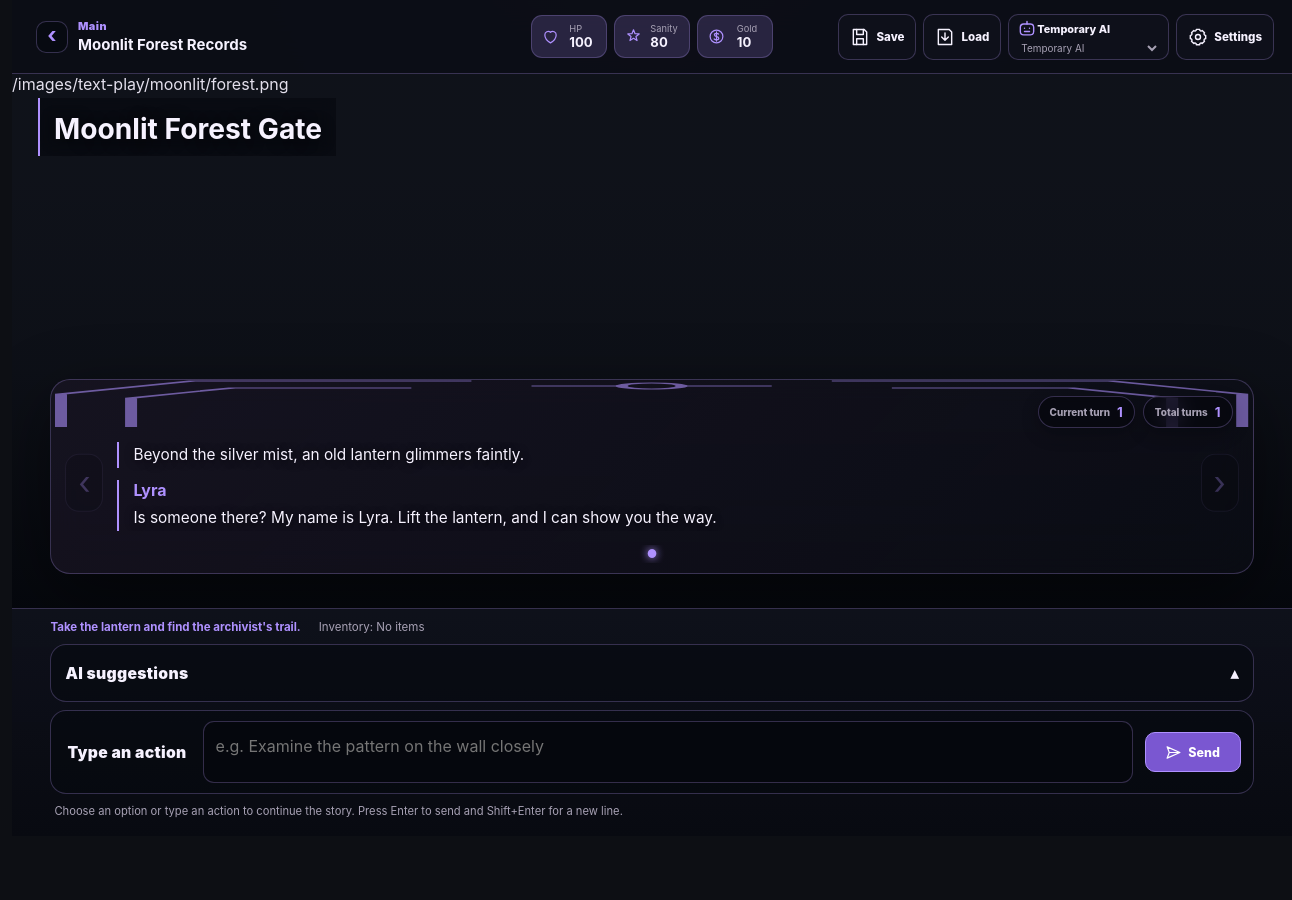
it: Text-Play 영어 화면 › 엔딩 화면도 영어로 보여 준다
The image size is (1292, 900).
Click the button "AI suggestions ▴".
click(127, 673)  # box [63,653,1241,693]
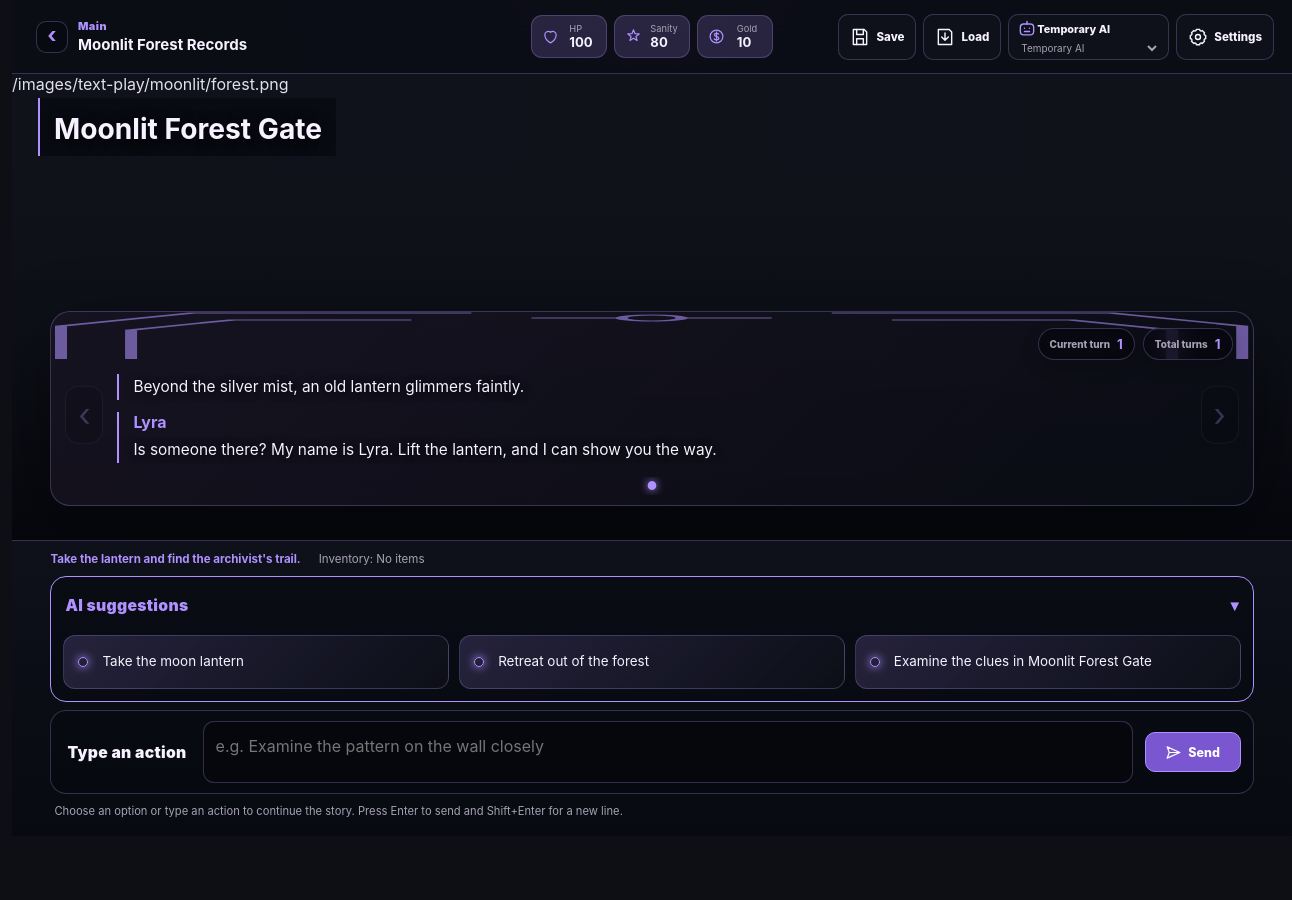
Click the button "Retreat out of the forest".
click(652, 662)  # box [459,635,845,689]
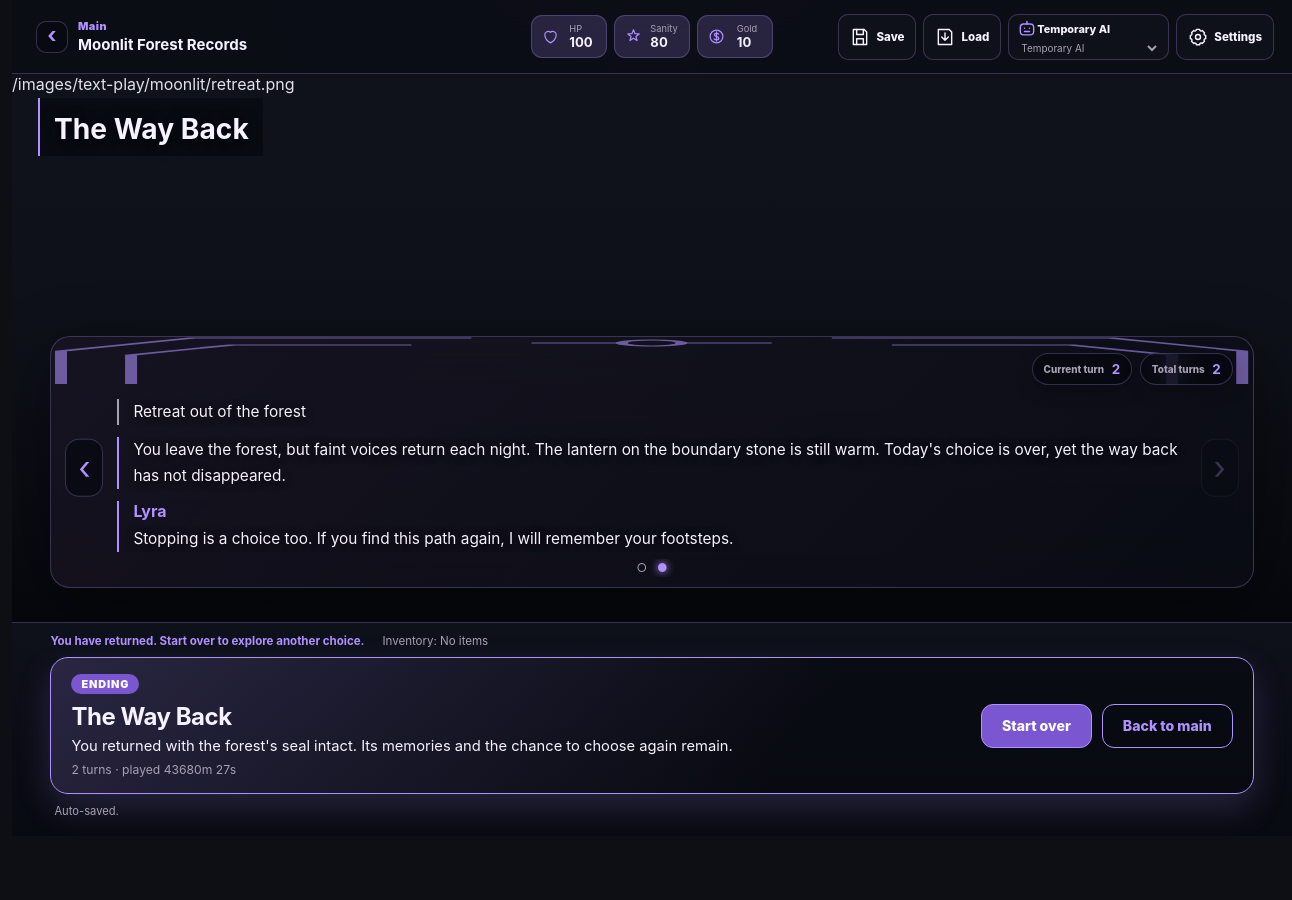
Check: the heading "The Way Back" below "ENDING" is shown, box [71,702,232,731]
Check: the text "You returned with the forest's seal intact. Its memories and the chance to choose again remain." is shown, box [71,737,733,755]
Check: the button "Start over" is shown, box [981,704,1092,748]
